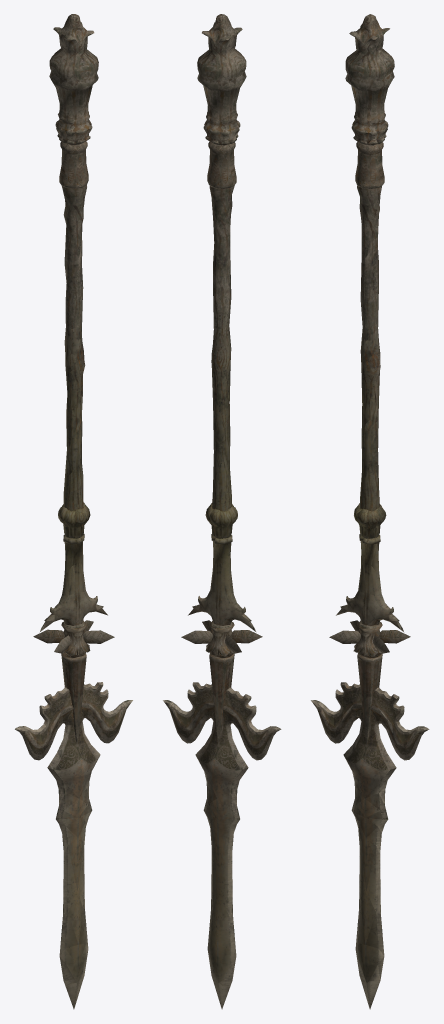
The model's file is le_pd_treespear.glb.
3 renders of one model, left to right at view 1: azimuth 30°, elevation 25°; view 2: azimuth 150°, elevation 25°; view 3: azimuth 330°, elevation 25°, orthographic.
Visible parts, largest first — view 1: Treespear; view 2: Treespear; view 3: Treespear.
Boxes of the visible parts, left/top/right/bottom form: Treespear: left=15, top=14, right=132, bottom=1009; Treespear: left=163, top=14, right=281, bottom=1009; Treespear: left=311, top=14, right=429, bottom=1009.
Size of the model in its own units: 20.81 by 166 by 7.69.
1 material, 1 textured.
